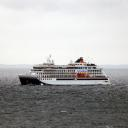cruises: (18, 54, 112, 88)
